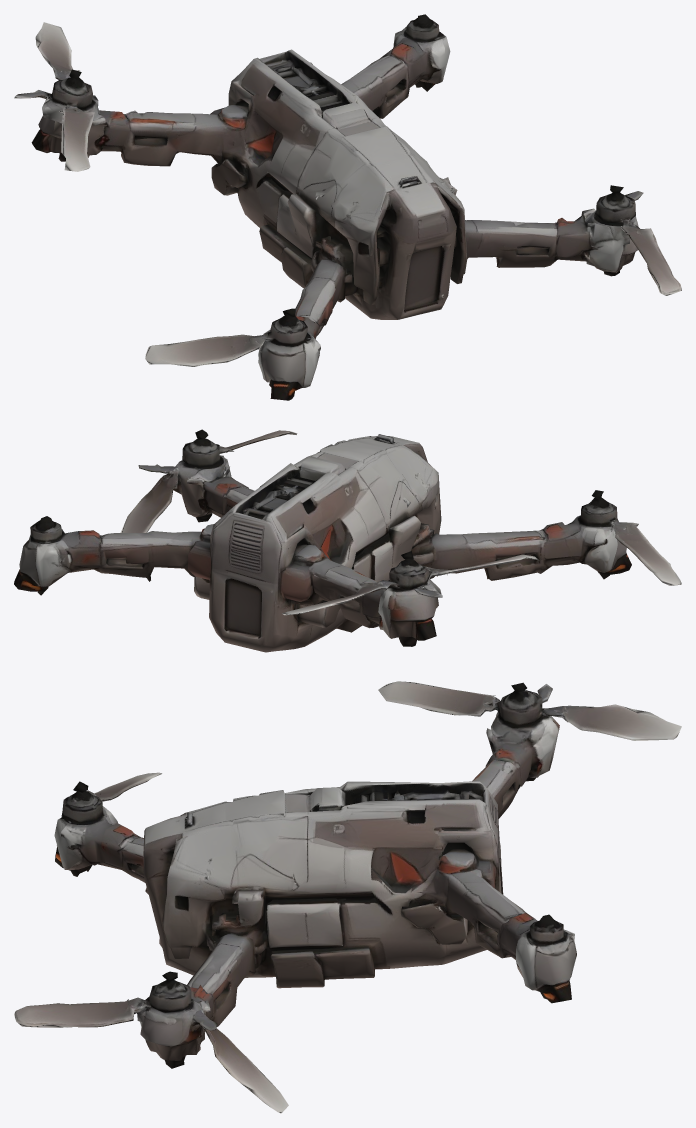
Rendered from midground_drone.glb.
The picture shows the model from 3 angles, top to bottom: view 1: azimuth 30°, elevation 25°; view 2: azimuth 150°, elevation 25°; view 3: azimuth 270°, elevation 25°; orthographic projection. The views are drawn at different scales.
Parts seen in each view (by area): view 1: tripo_node_f57d9f6a-ebdb-4d1f-9c23-b1f478154715; view 2: tripo_node_f57d9f6a-ebdb-4d1f-9c23-b1f478154715; view 3: tripo_node_f57d9f6a-ebdb-4d1f-9c23-b1f478154715.
Part boxes in pixels (<box>): tripo_node_f57d9f6a-ebdb-4d1f-9c23-b1f478154715: <box>14,14,681,400</box>; tripo_node_f57d9f6a-ebdb-4d1f-9c23-b1f478154715: <box>14,429,681,652</box>; tripo_node_f57d9f6a-ebdb-4d1f-9c23-b1f478154715: <box>14,681,681,1113</box>.
Bounding box in the file's own units: 0.9764 × 0.347 × 1.
1 material, 1 textured.
